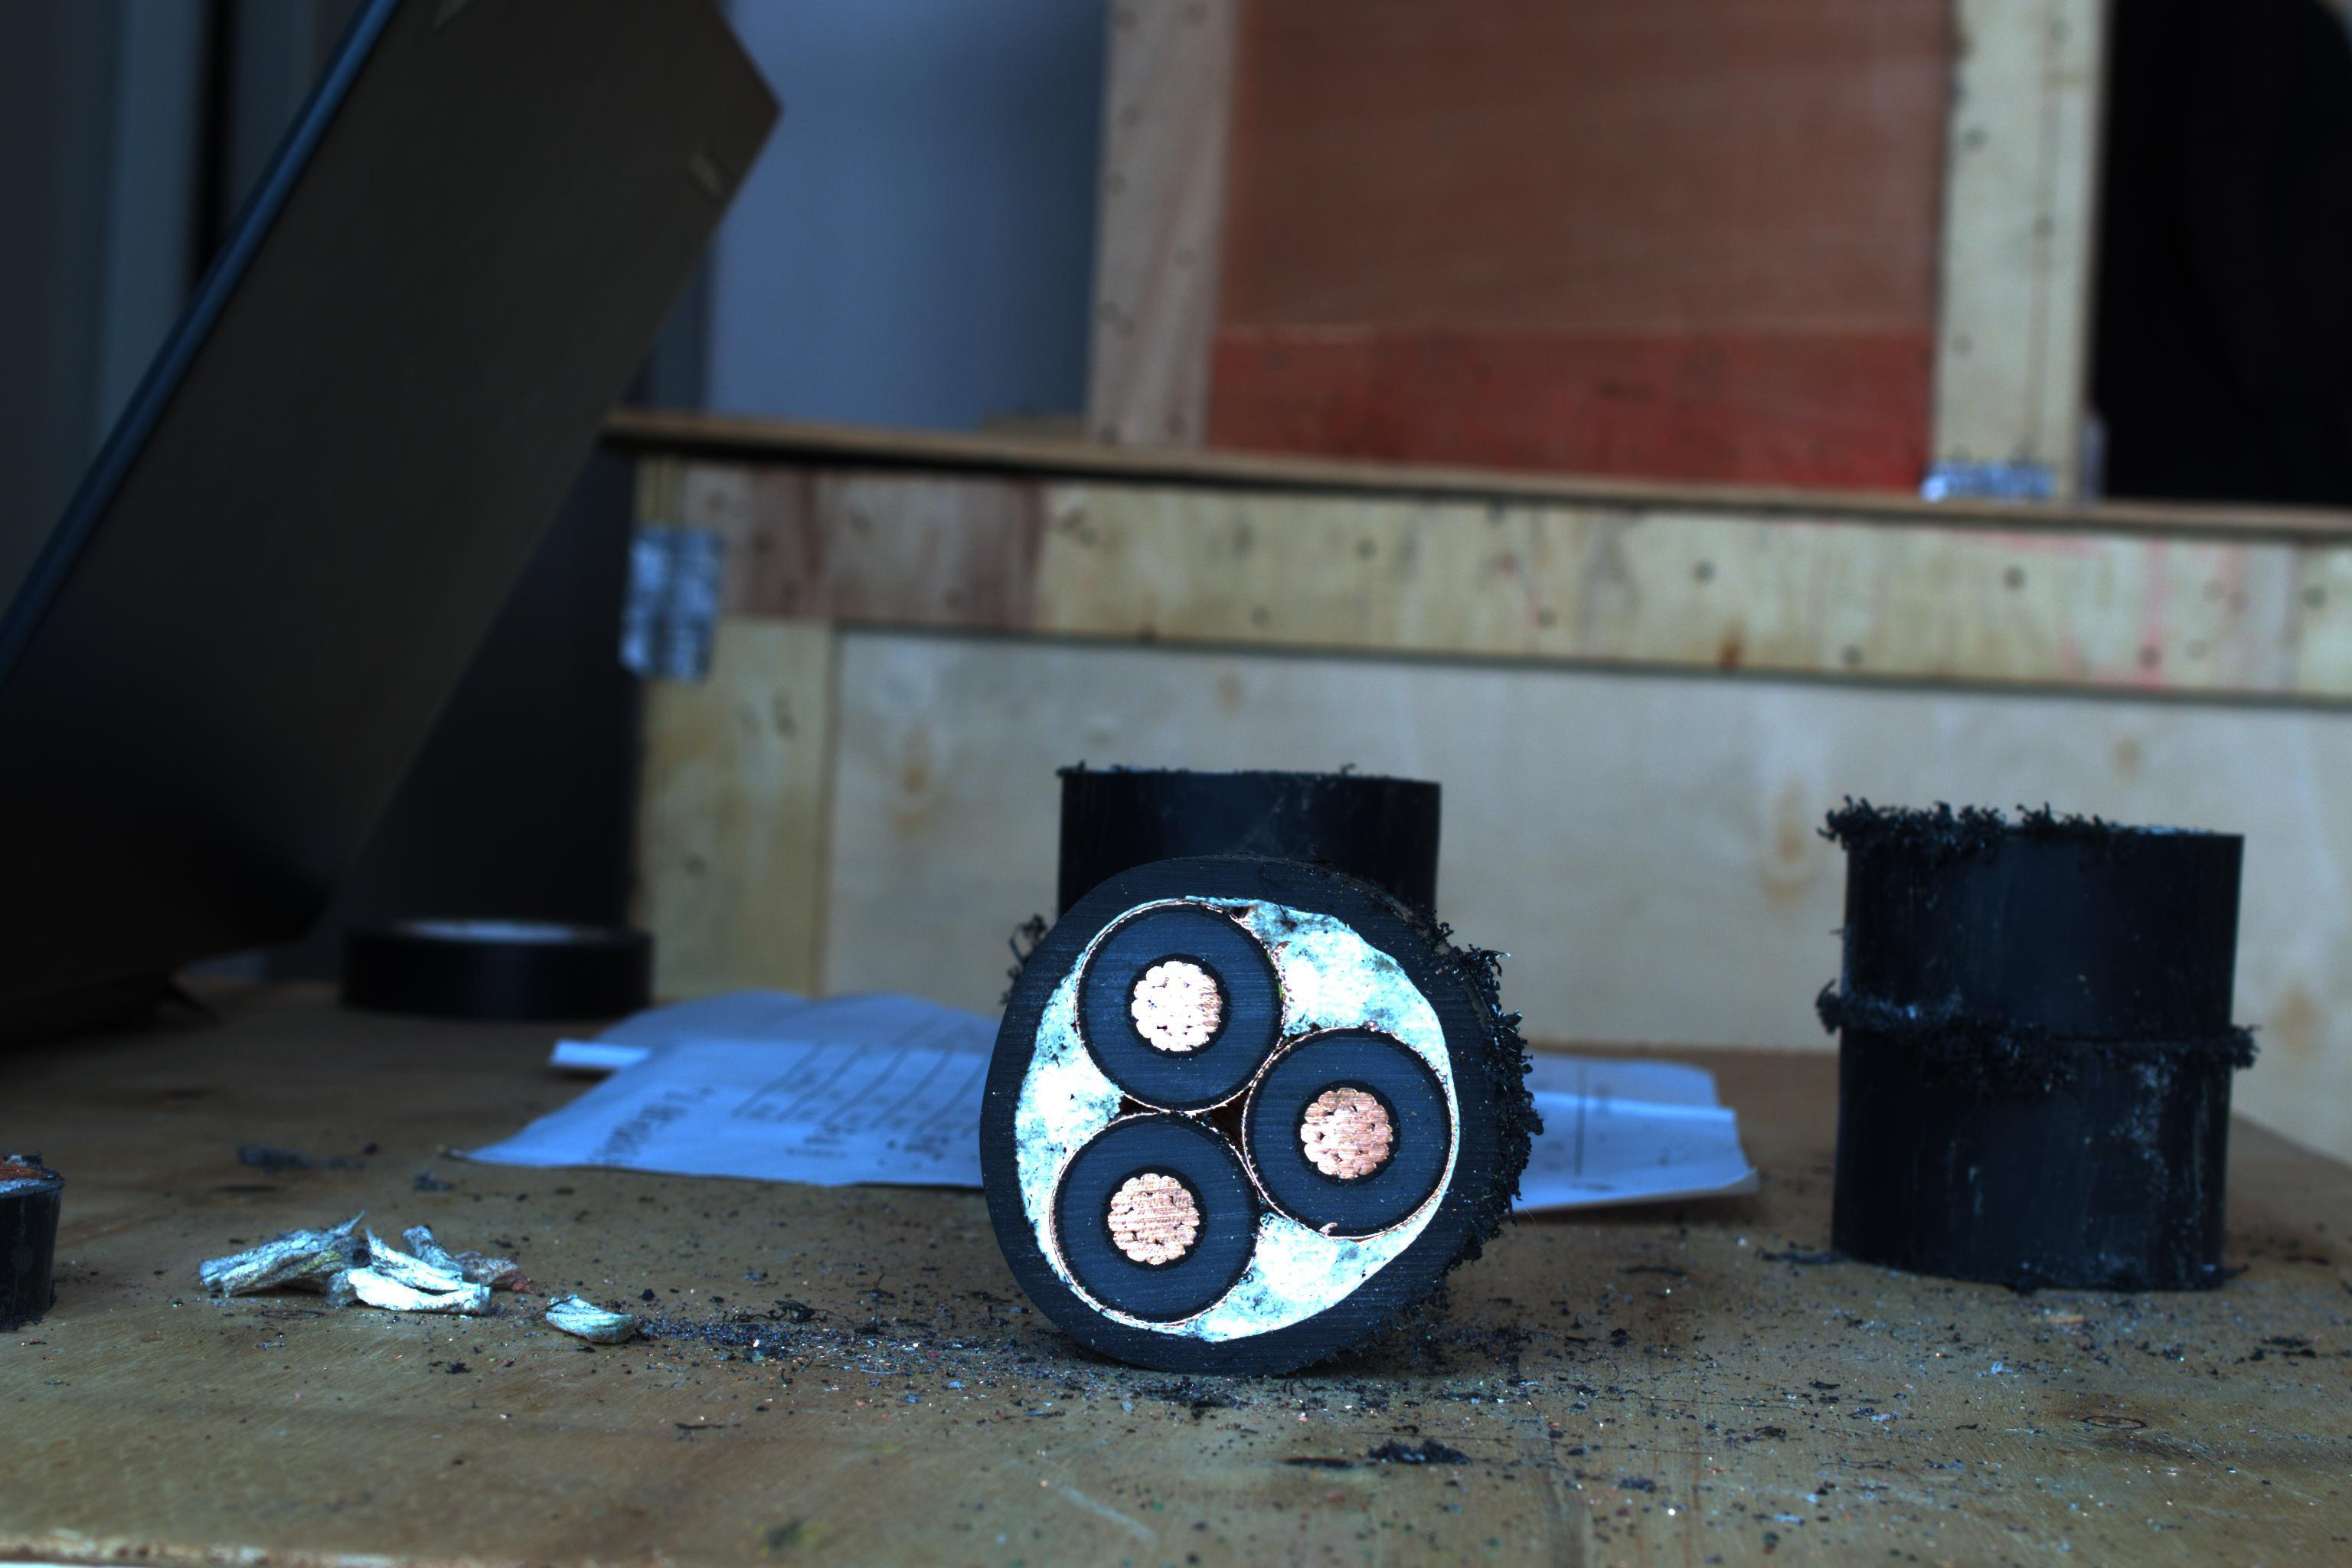YJV_8.7_10kV_3x70: (931, 870, 1501, 1349)
